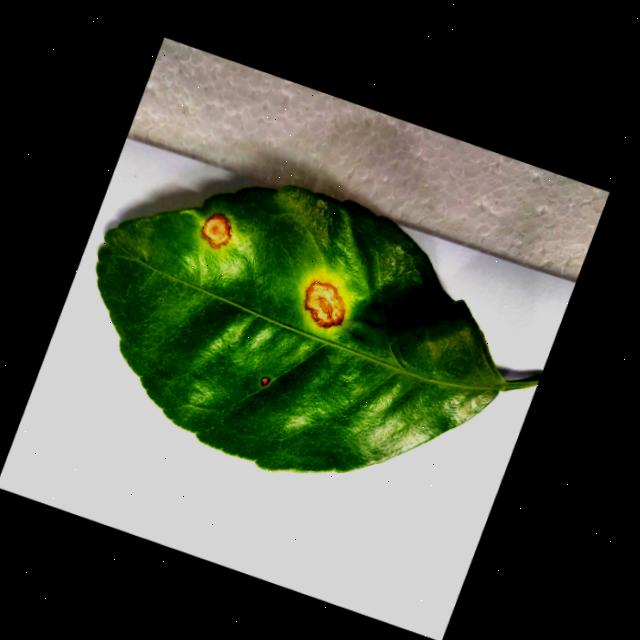antracnose: (96, 185, 538, 470), (304, 280, 343, 326), (200, 213, 230, 246), (260, 375, 269, 386)
